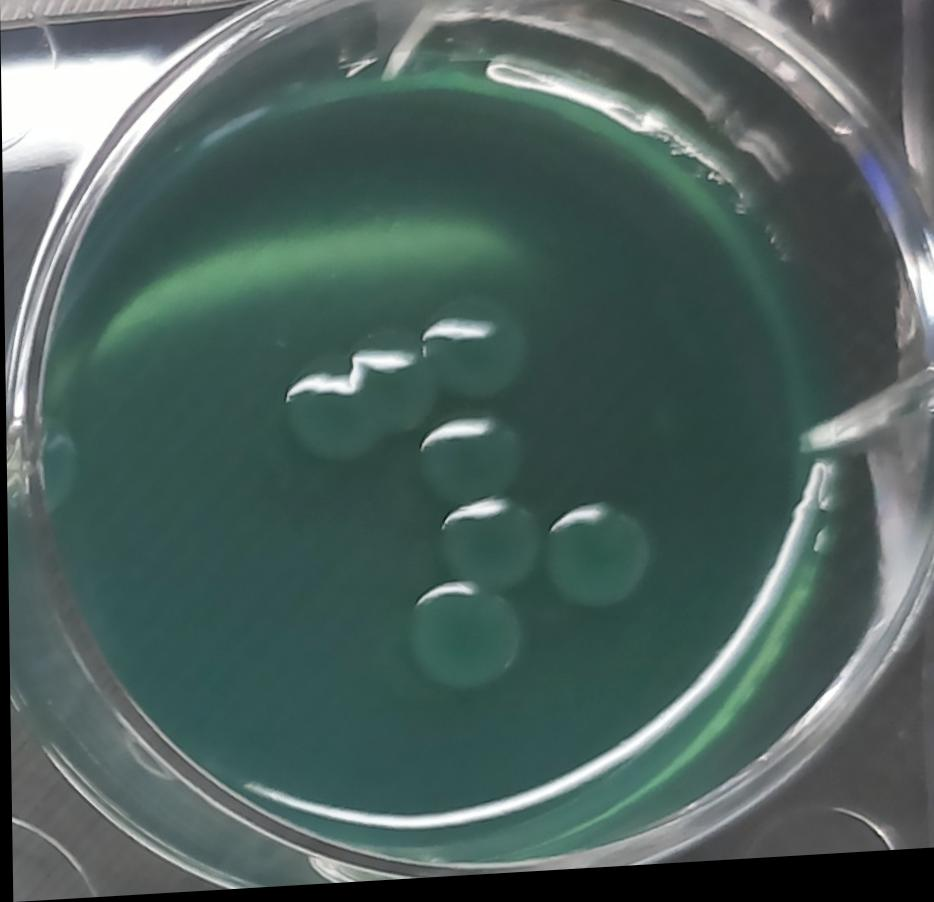vproteolyticus: (392, 579, 526, 703), (541, 501, 659, 621), (421, 292, 532, 408), (436, 493, 544, 606), (414, 412, 527, 519), (346, 328, 441, 446), (278, 360, 375, 470)
